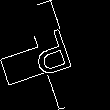P_S: (29, 25, 81, 85)
